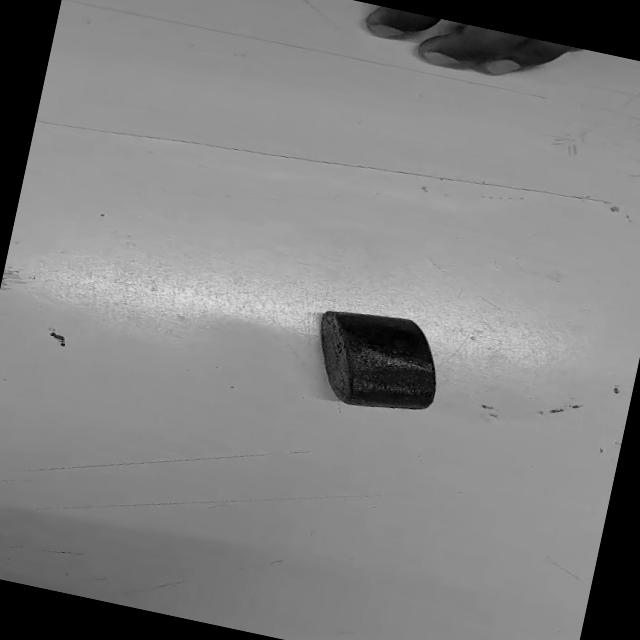bcircle: (302, 300, 452, 422)
